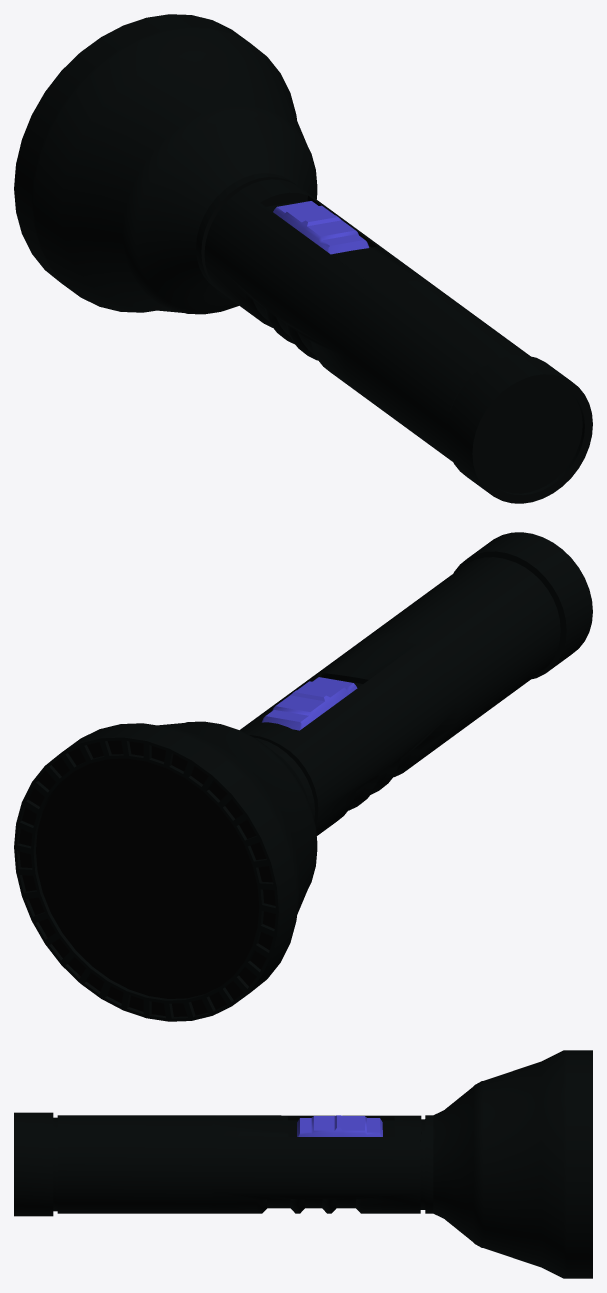
The model's file is tourch light.fbx.
3 renders of one model, top to bottom at view 1: azimuth 30°, elevation 25°; view 2: azimuth 150°, elevation 25°; view 3: azimuth 270°, elevation 25°, orthographic. The views are drawn at different scales.
Parts seen in each view (by area): view 1: Cylinder, Cube; view 2: Cylinder, glass, Cube; view 3: Cylinder, Cube.
Boxes of the visible parts, <box> form: Cylinder: <box>14,14,592,503</box>; Cube: <box>273,201,369,254</box>; Cylinder: <box>14,532,592,1021</box>; glass: <box>18,740,275,1016</box>; Cube: <box>261,677,357,730</box>; Cylinder: <box>14,1050,592,1278</box>; Cube: <box>297,1115,382,1136</box>.
Size of the model in its own units: 306 by 306 by 773.
